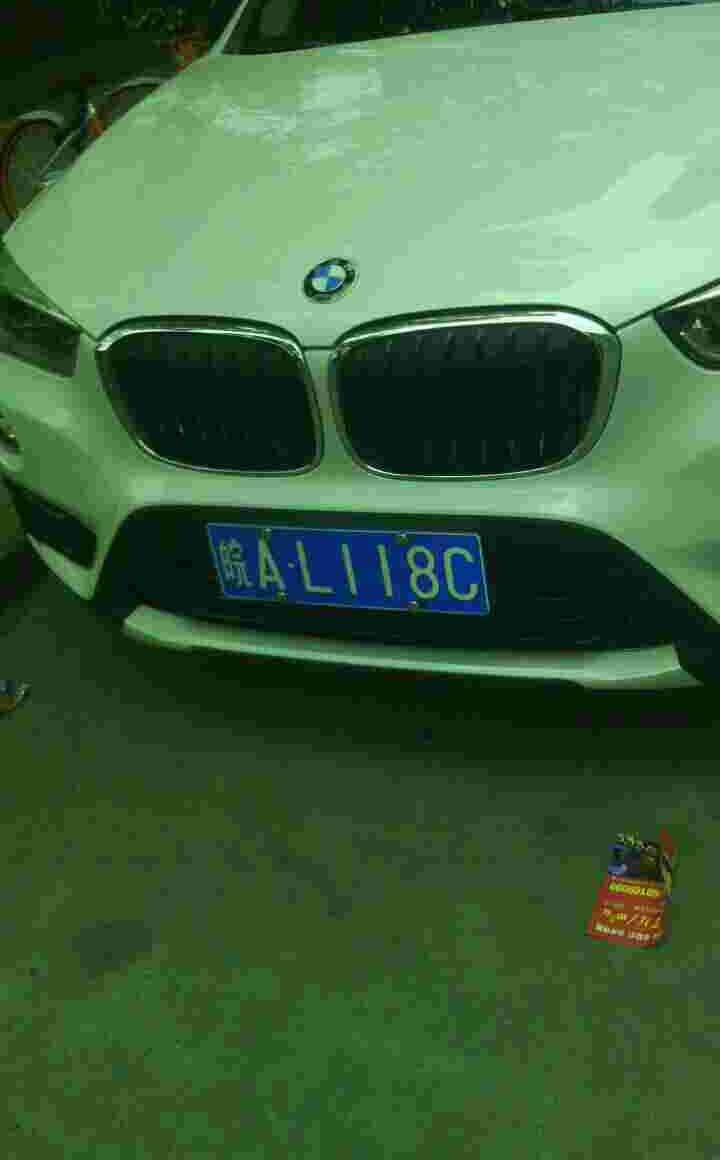car: (204, 519, 496, 611)
